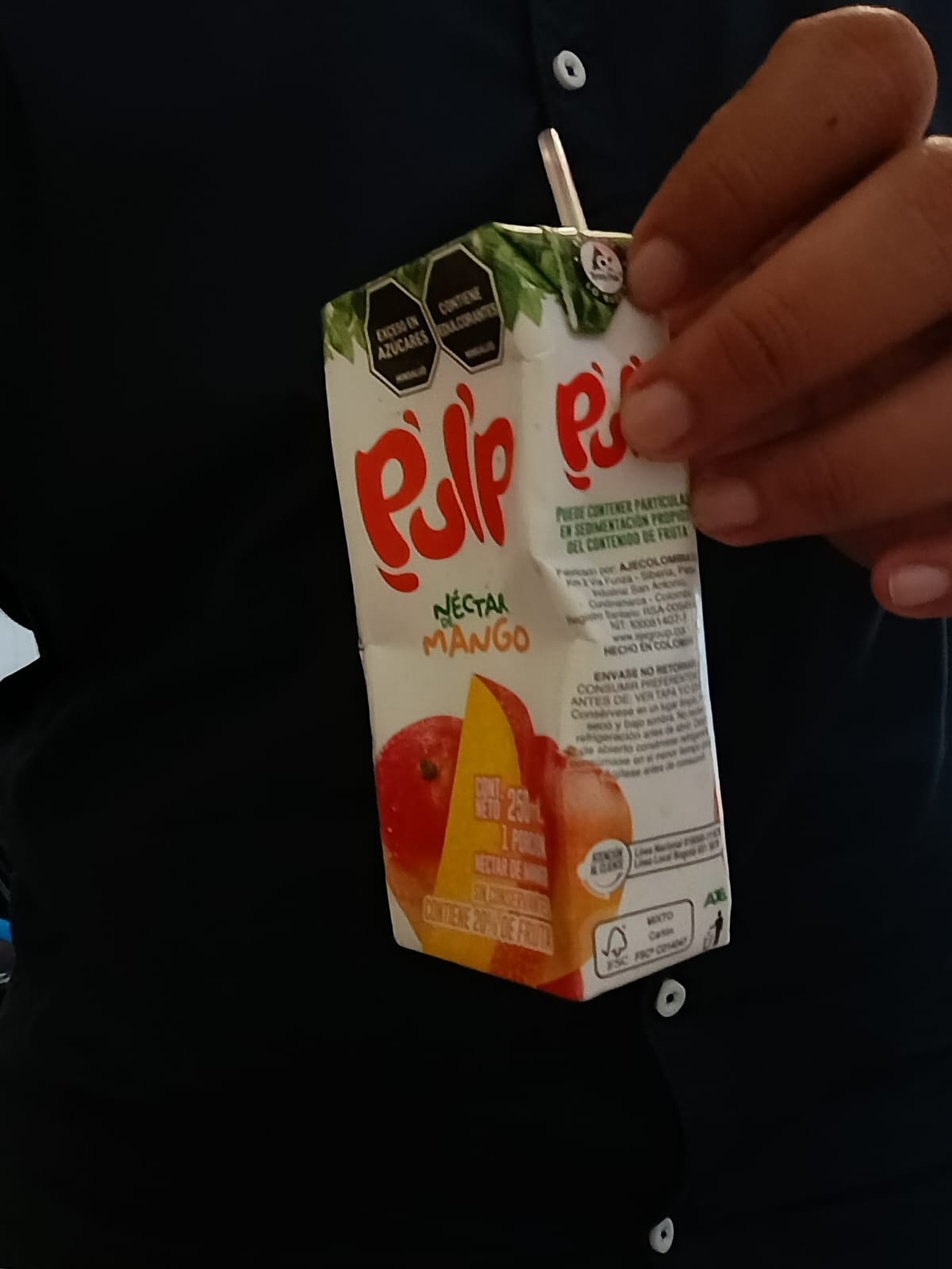Carton: (322, 228, 733, 1004)
